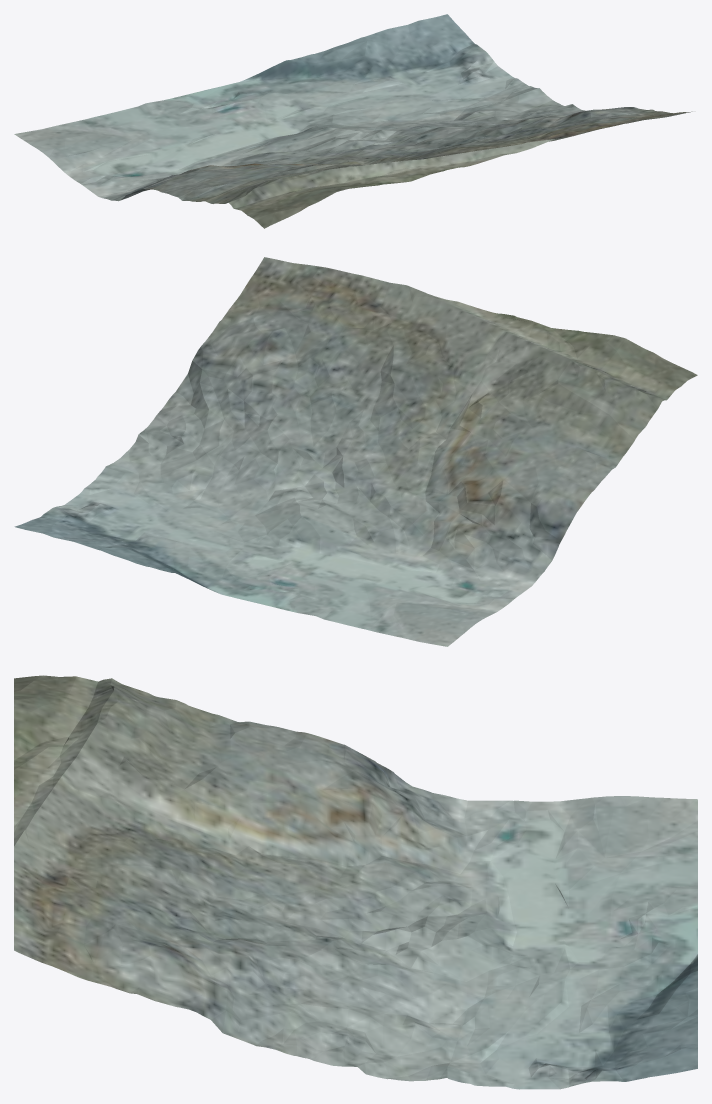
3 views of the same model, one above another, from view 1: azimuth 30°, elevation 25°; view 2: azimuth 150°, elevation 25°; view 3: azimuth 270°, elevation 25° (orthographic). The views are drawn at different scales.
Visible parts, largest first — view 1: Plane; view 2: Plane; view 3: Plane.
Boxes of the visible parts, box(x1,y1,x2,y2) form: Plane: box(14, 14, 692, 228); Plane: box(14, 257, 697, 646); Plane: box(14, 675, 697, 1089).
Size of the model in its own units: 0.5 by 0.1223 by 0.5.
1 material, 1 textured.
